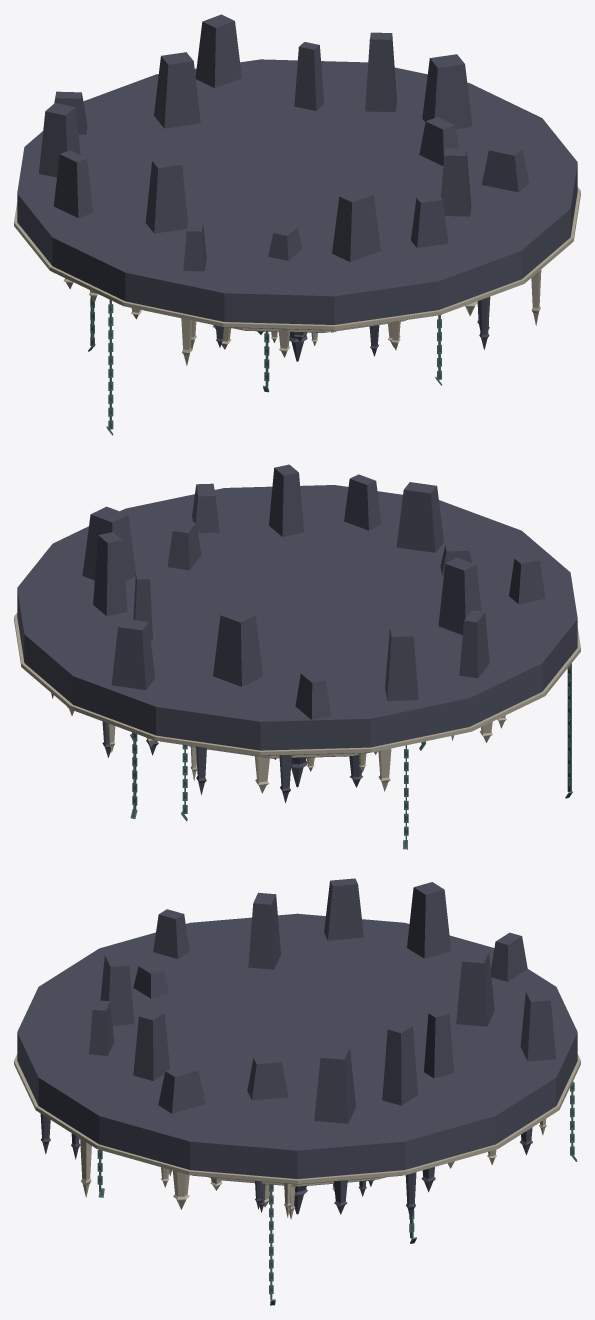
Rendered from hanging_courts.glb.
3 views of the same model, one above another, from view 1: azimuth 30°, elevation 25°; view 2: azimuth 150°, elevation 25°; view 3: azimuth 270°, elevation 25° (orthographic).
Visible parts, largest first — view 1: HangingCourts; view 2: HangingCourts; view 3: HangingCourts.
Part boxes in pixels (left/top/right/bottom): HangingCourts: left=14, top=14, right=580, bottom=435; HangingCourts: left=14, top=464, right=580, bottom=849; HangingCourts: left=14, top=878, right=580, bottom=1305.
Size of the model in its own units: 124 by 62.69 by 124.
